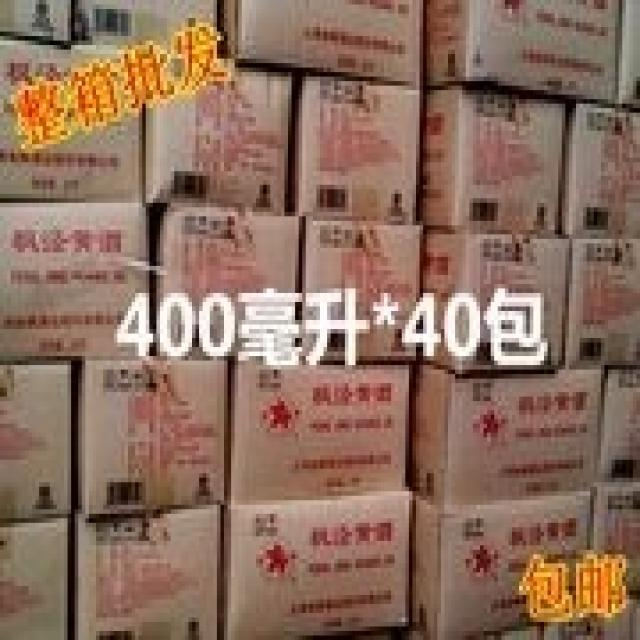box: (409, 356, 601, 509), (220, 491, 412, 640), (412, 491, 594, 640), (75, 356, 228, 523), (228, 361, 409, 500), (0, 203, 149, 365), (142, 59, 292, 216), (0, 36, 142, 198), (149, 203, 299, 356), (420, 81, 565, 234), (420, 230, 569, 374), (423, 0, 622, 104), (75, 505, 220, 640), (292, 72, 420, 221), (302, 221, 420, 361), (220, 0, 420, 81), (0, 365, 75, 518), (562, 234, 640, 370), (562, 99, 640, 234), (75, 0, 217, 63), (0, 518, 68, 640), (597, 370, 640, 487)
